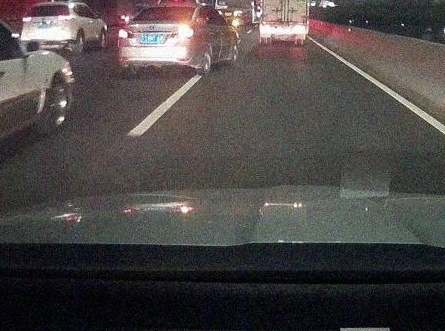L_light: (118, 29, 135, 38), (22, 17, 33, 22)
R_light: (171, 28, 192, 37), (59, 16, 73, 21)
T_light: (165, 7, 177, 10), (46, 3, 57, 6)
night-no: (21, 1, 76, 56)
night-right: (118, 2, 200, 76)
